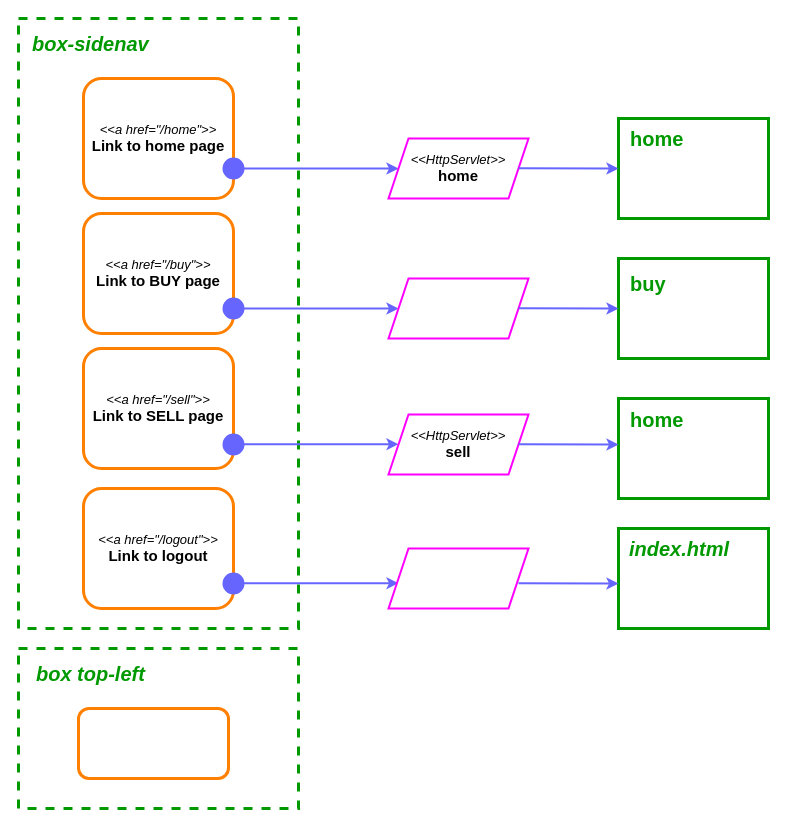
This 787x827 diagram has some shape labels left out. The shapes that lost their labels are listed below. From the top down, each one's centre as x and y in pixels, then its label:
point (458, 308): <<HttpServlet>> buy
point (458, 578): <<HttpServlet>> logout
point (153, 743): <<span>> Username
